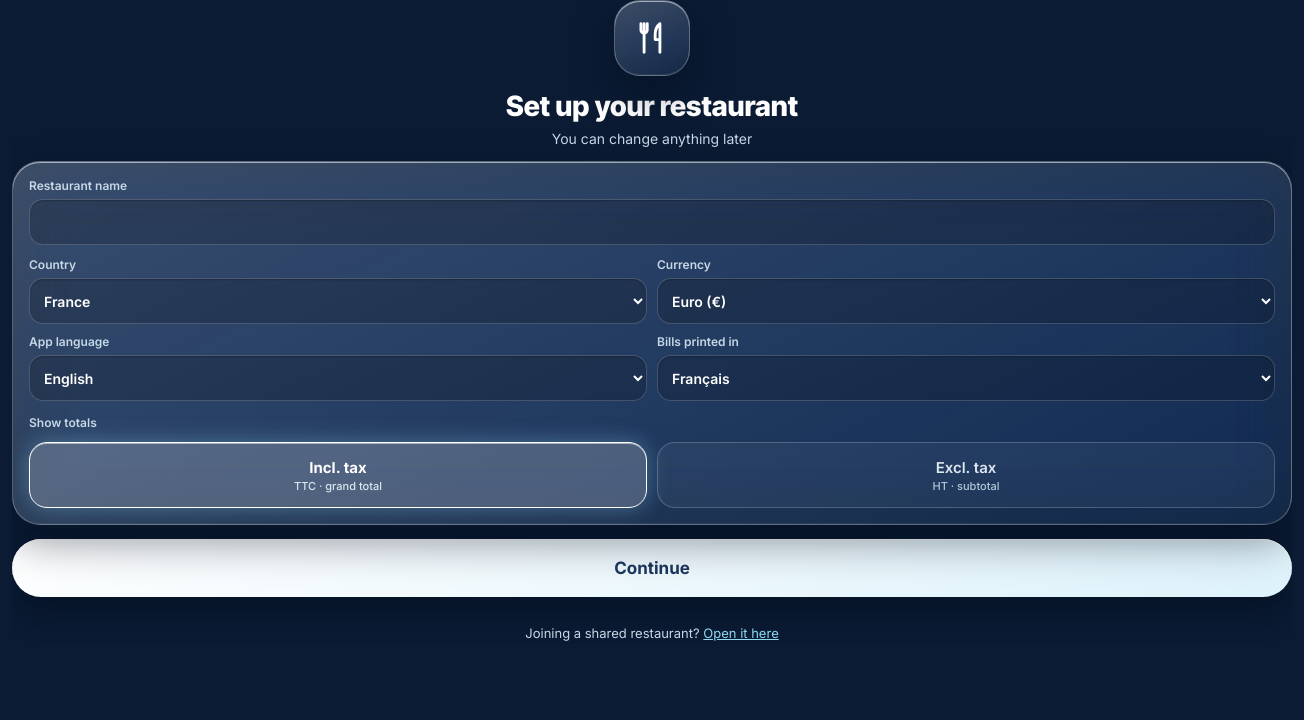
signed in with this account's Drive not checked yet (adoptPending) › lookup fails → error, nothing written, stays
Click the button "Continue" at [652, 568], box top-left (12, 539), bottom-right (1292, 597)
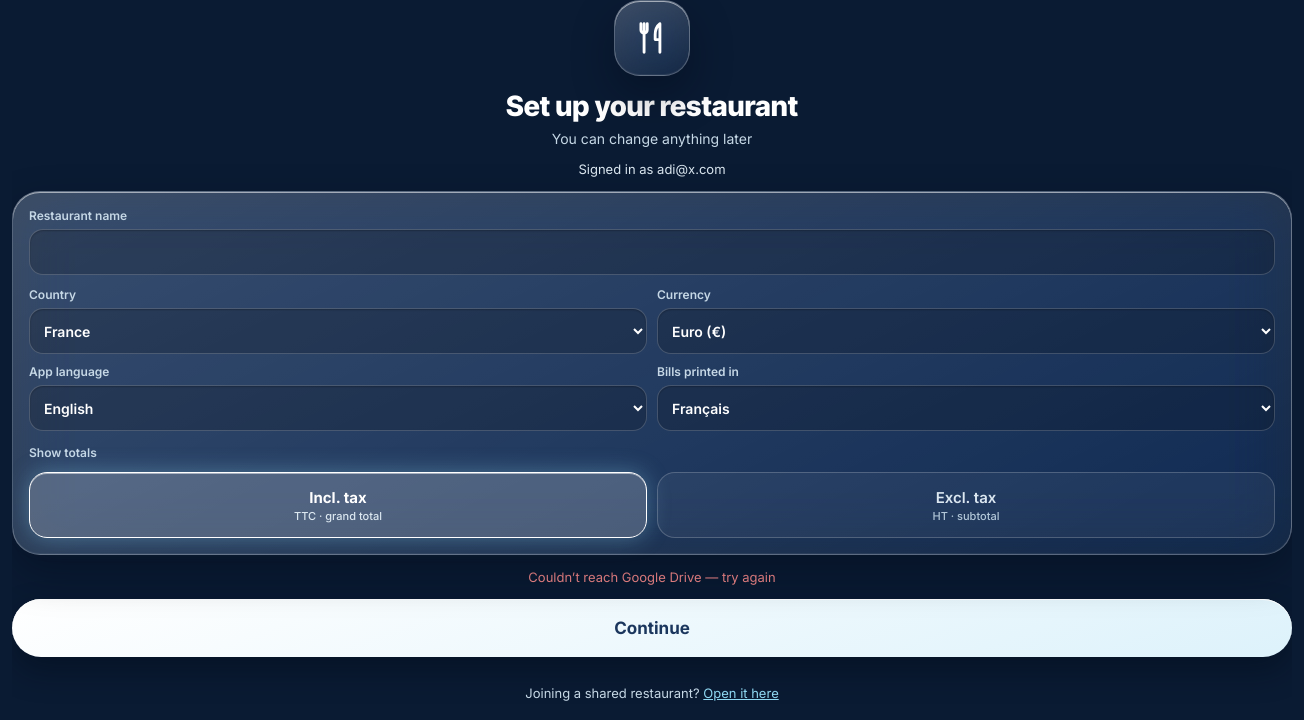
Result: the text "Couldn’t reach Google Drive — try again" is shown at top-left (528, 569), bottom-right (776, 585)
